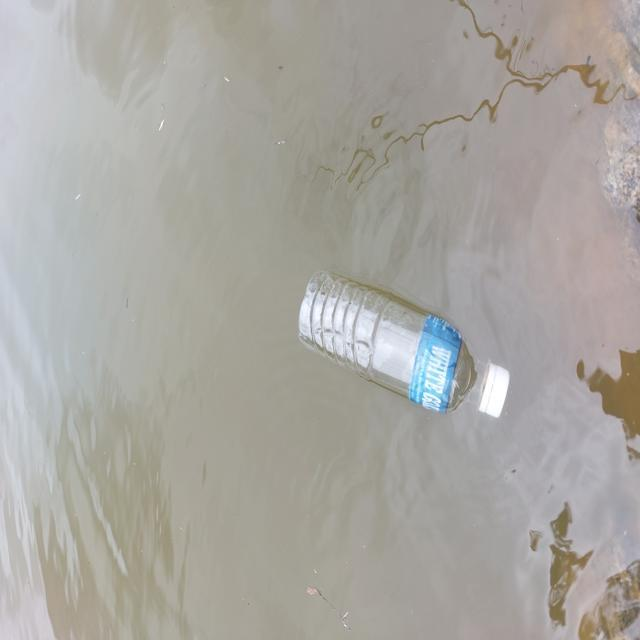waterbottle: (286, 259, 522, 449)
